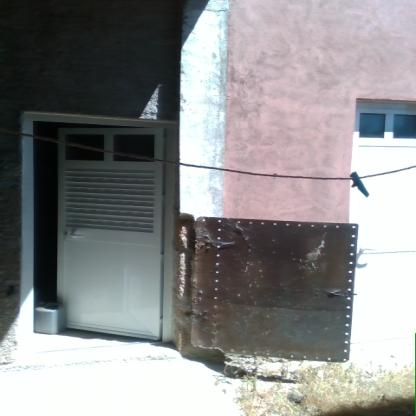semi: (10, 108, 186, 370)
